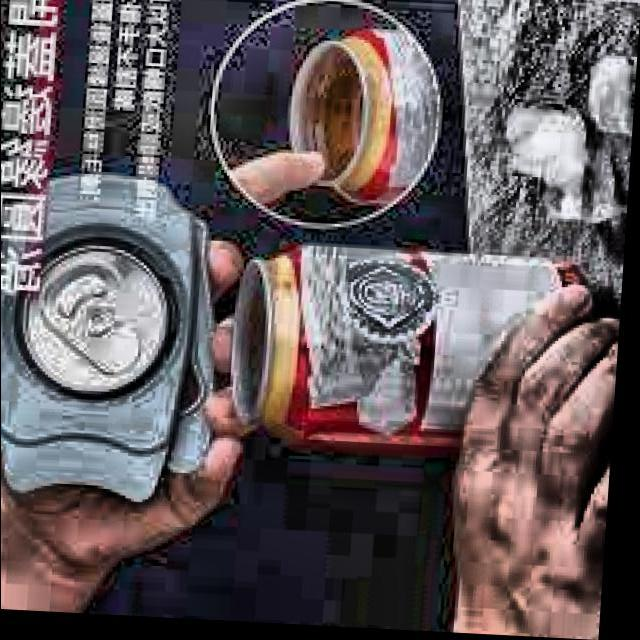Aluminum Can: (218, 236, 601, 469), (279, 21, 462, 217)
